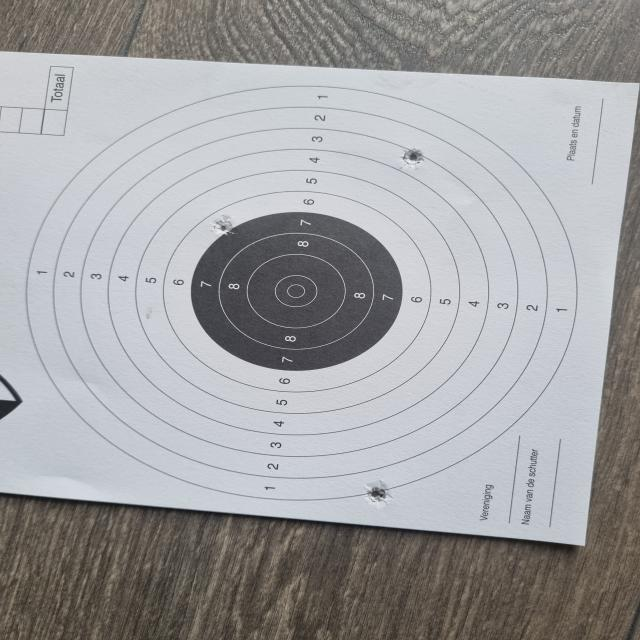1: (366, 486, 393, 504)
3: (401, 149, 424, 170)
7: (212, 219, 236, 236)
Target: (24, 86, 581, 502)
black_contour: (190, 212, 404, 371)
